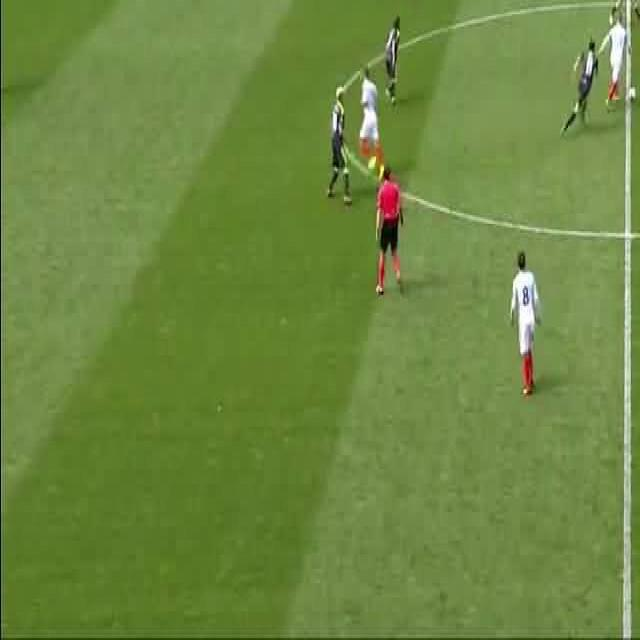ball: (628, 86, 636, 100)
player-white: (510, 251, 540, 396), (559, 41, 599, 137), (375, 165, 404, 294), (358, 67, 386, 181), (598, 12, 630, 110), (326, 87, 352, 203), (383, 13, 401, 105), (609, 0, 640, 28)
